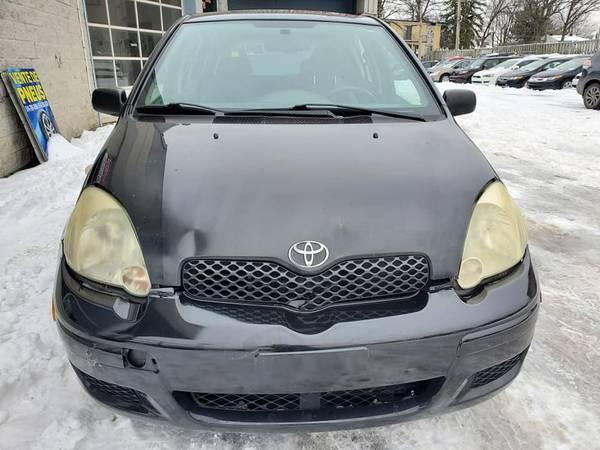Front_Bumper: (53, 252, 536, 432)
Front_Windshield: (130, 9, 440, 119)
Grille: (177, 246, 430, 307)
Hood: (89, 109, 494, 285)
Left_Headlight: (460, 176, 528, 285)
Left_Mirror: (446, 90, 478, 116)
Right_Headlight: (58, 181, 149, 290)
Right_Mirror: (93, 84, 126, 116)
